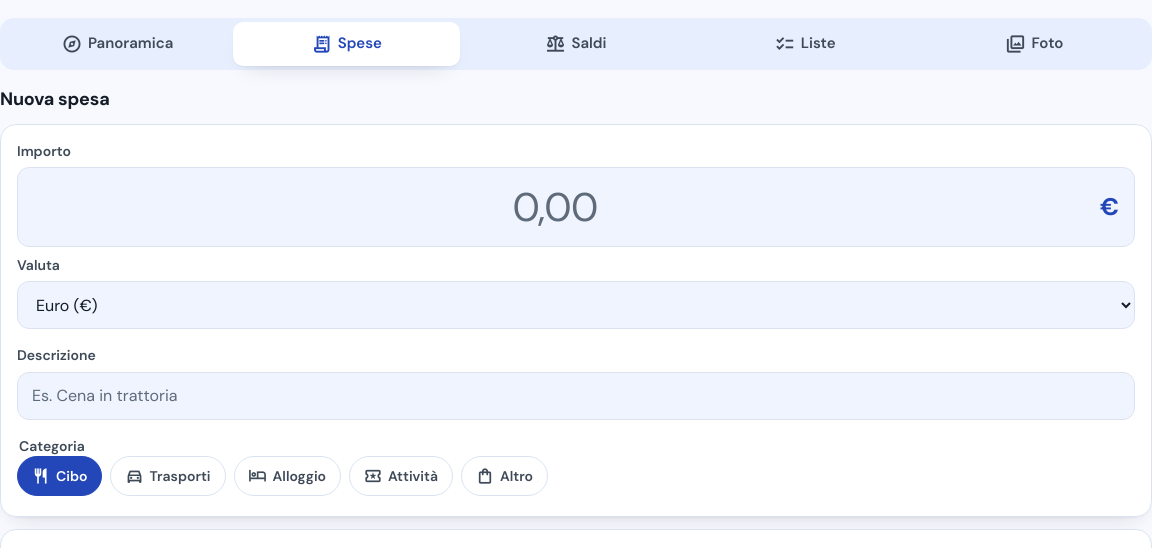
it: ExpenseFormPage › «Quota a testa» in yen è già convertita nella valuta del viaggio (revisione v3.6)
Select "JPY" in the dropdown labelled "Valuta" at (576, 306), box x1=17 y1=282 x2=1135 y2=330
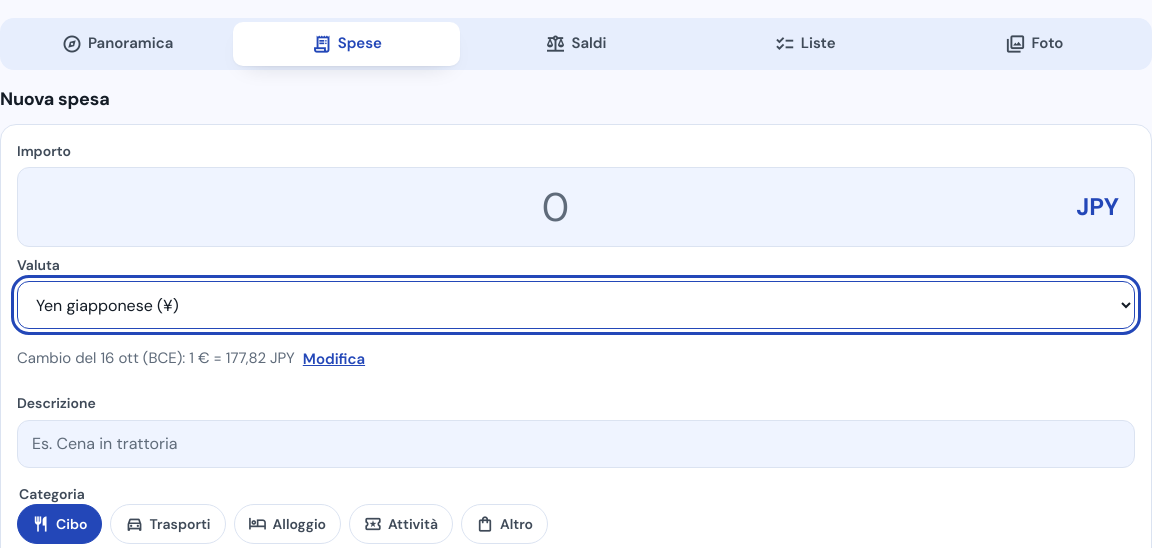
Expected: the text "Cambio del 16 ott (BCE): 1 € = 177,82 JPY" is shown, x1=17 y1=338 x2=365 y2=382
Type "2000" into the field labelled "Importo" at (576, 207), box x1=17 y1=167 x2=1135 y2=247
(page scrolled)
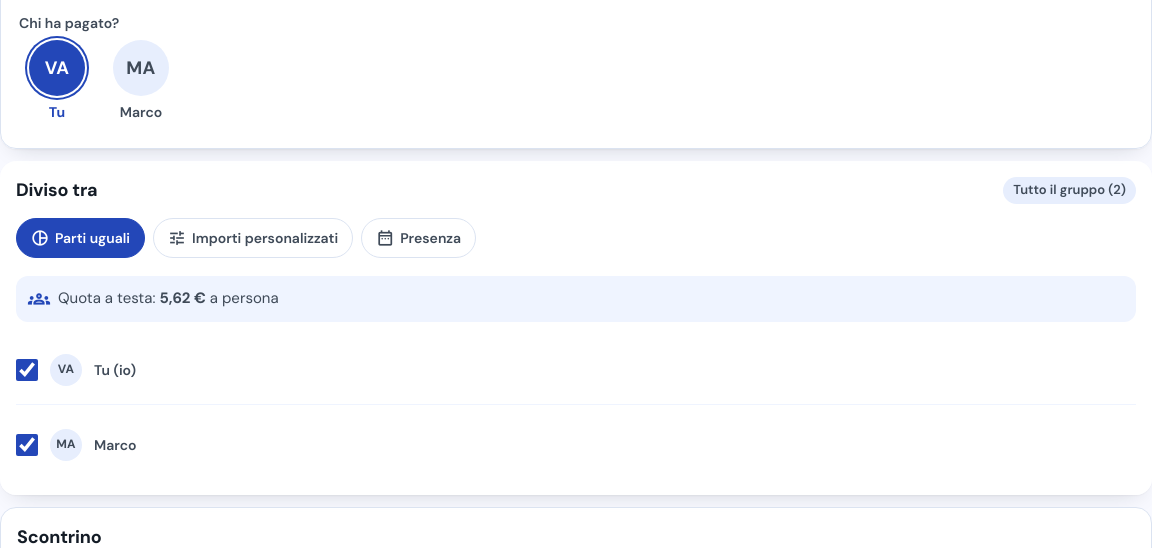
Expected: the text "Quota a testa: 5,62 € a persona" is shown, x1=58 y1=288 x2=279 y2=310
